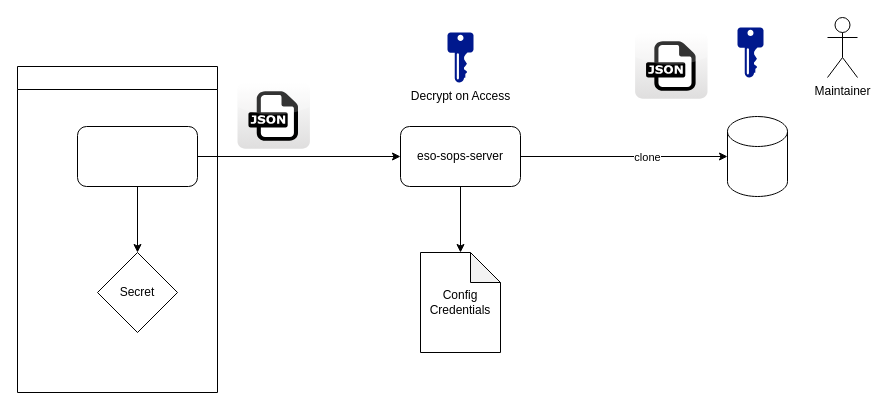
This 888x410 diagram has some shape labels left out. Each missing label, with the box of its shape:
External Secret Operator: (76, 126, 198, 186)
Git +Sops: (726, 116, 788, 196)
K8s: (16, 66, 218, 392)
